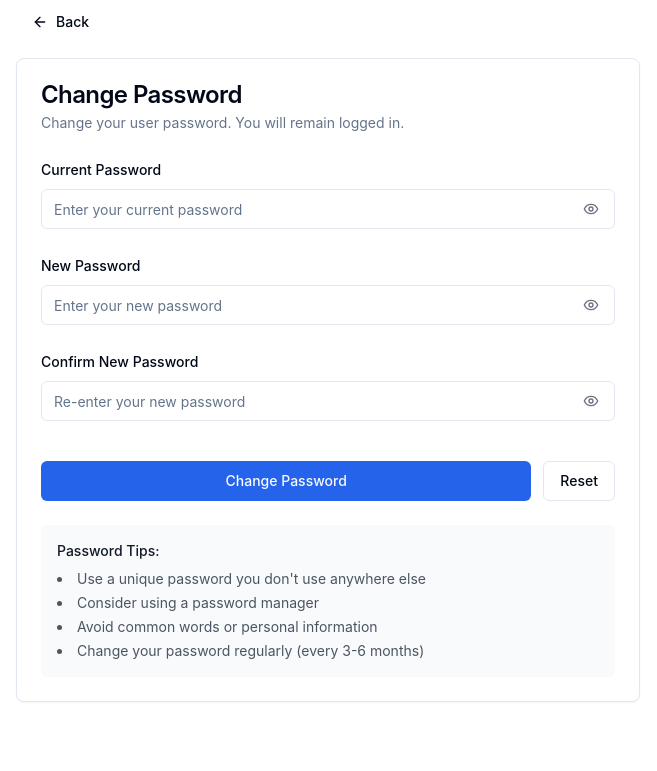
Scenario: ChangePasswordPage › Form Validation › should show error when confirm password is empty
Type "currentpass" into the password field labelled "Current Password". click: [328, 209]
box: [41,189,615,229]
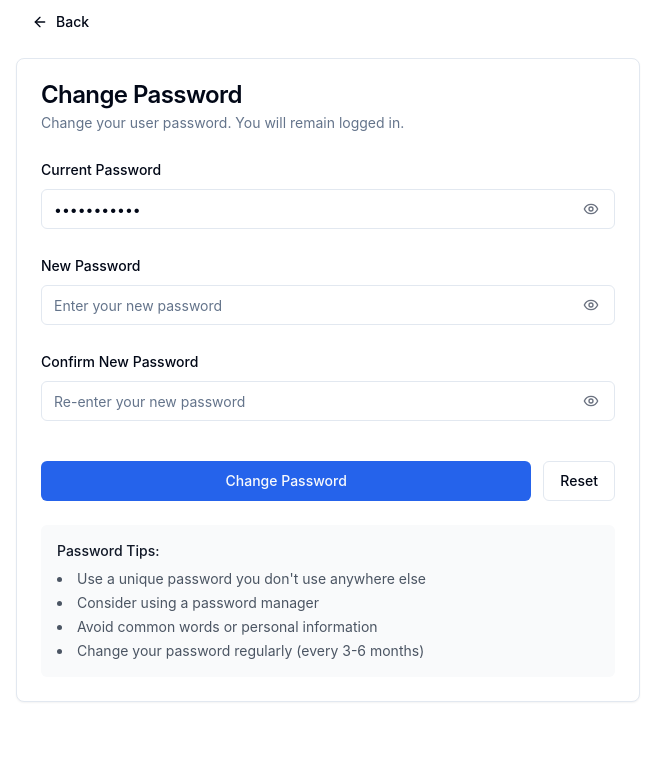
Type "NewPass123!" into the password field labelled "New Password". click: [328, 305]
box: [41,285,615,325]
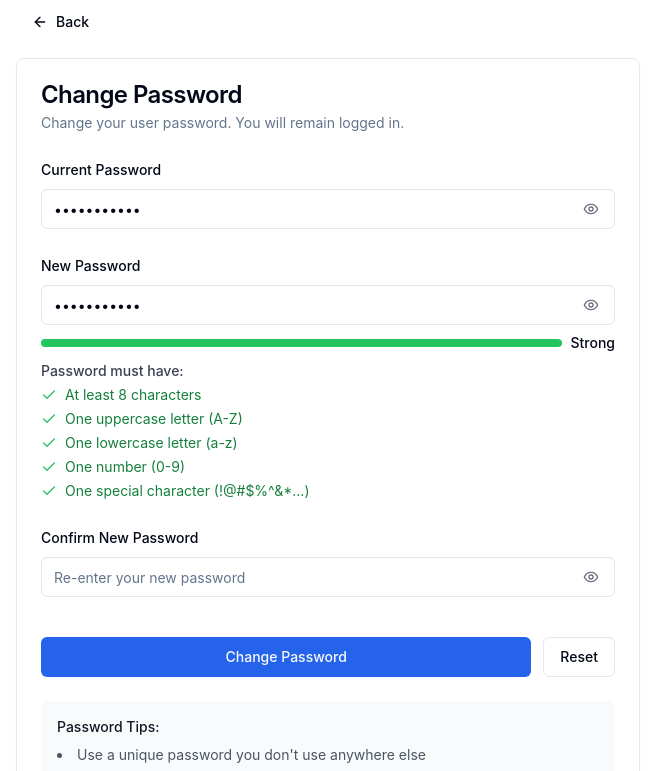
Click the button "Change Password". click: [286, 657]
box: [41,637,531,677]
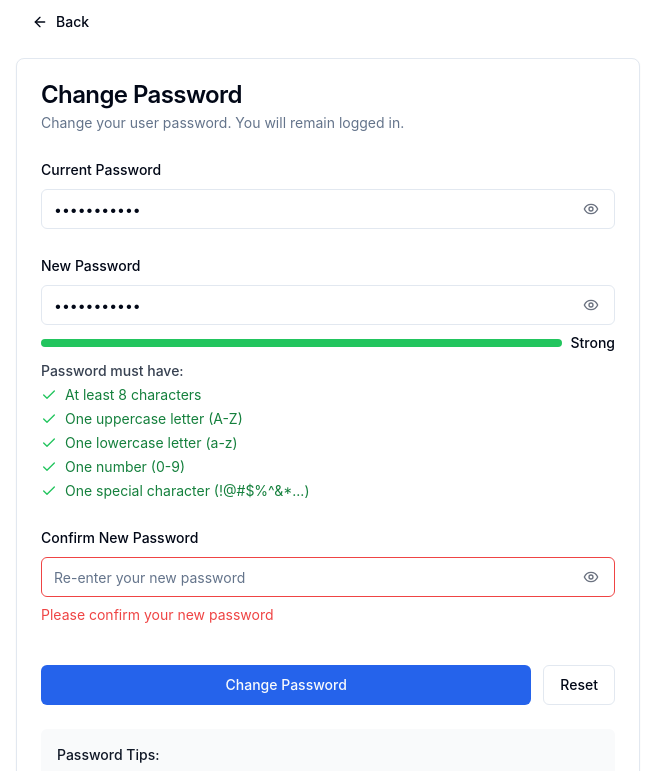
Expected: the text "Please confirm your new password" is shown, [41,606,274,623]
